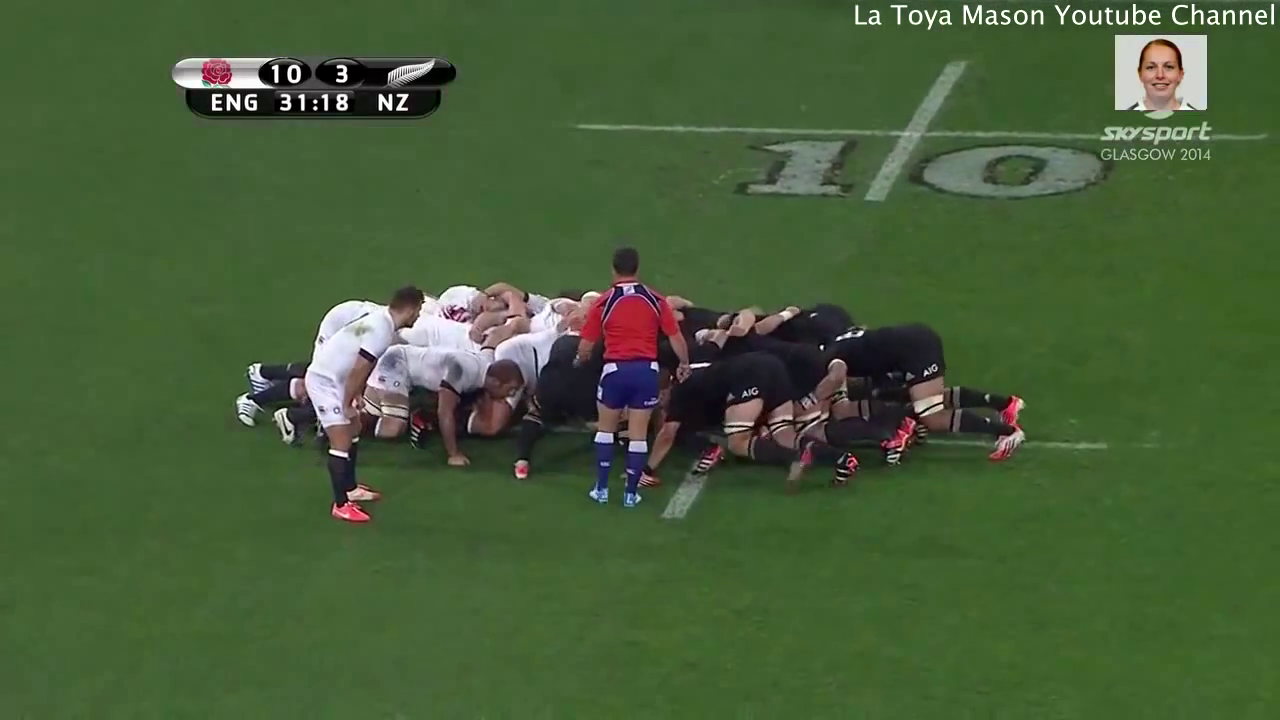10_metre: (566, 45, 1280, 214)
player: (294, 282, 437, 542), (640, 343, 872, 500), (572, 242, 697, 524), (262, 336, 529, 463), (845, 325, 1034, 465)
scrum: (227, 264, 1059, 500)
